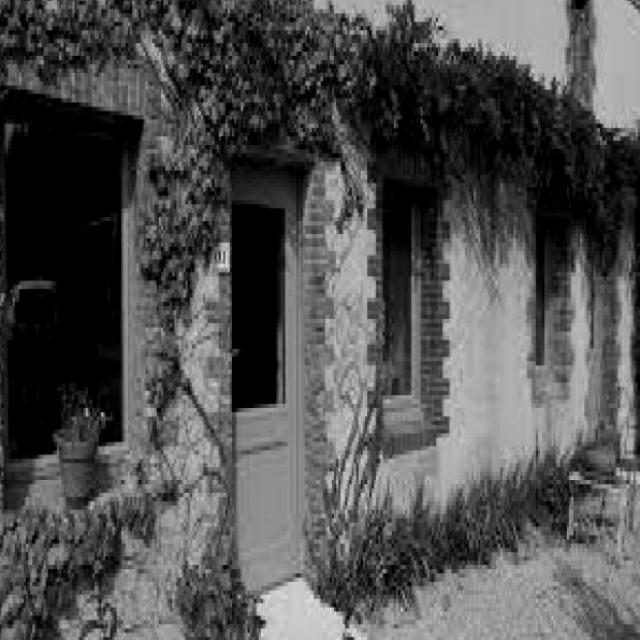door: (228, 167, 305, 594)
